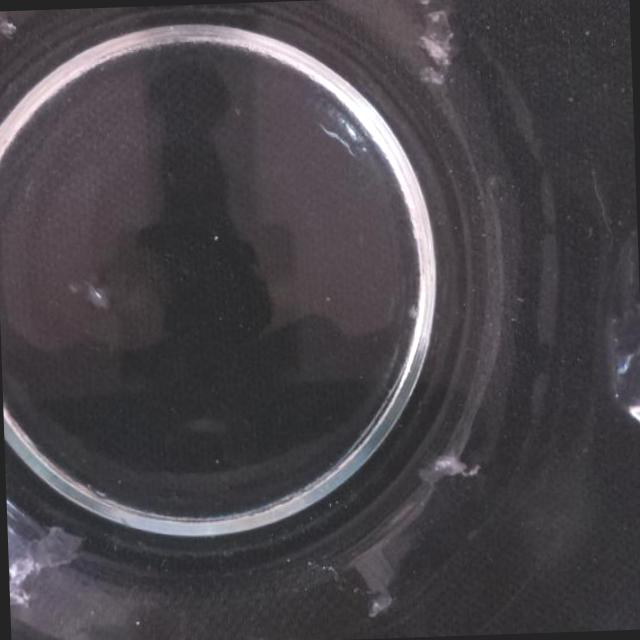fiber: (7, 506, 94, 616), (403, 0, 467, 110), (416, 442, 495, 500), (0, 12, 22, 39)
